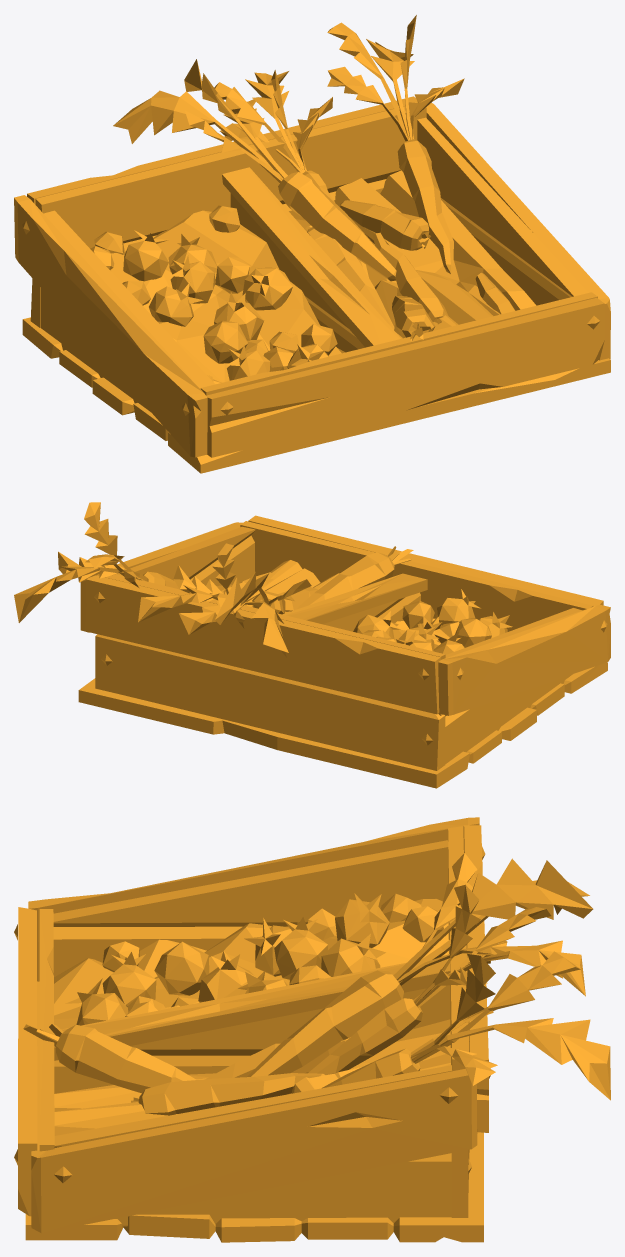
The model's file is SM_Crate_Table_Slanted_Tomato_Carrot_Fantasy.fbx.
3 renders of one model, top to bottom at view 1: azimuth 30°, elevation 25°; view 2: azimuth 150°, elevation 25°; view 3: azimuth 270°, elevation 25°, orthographic. The views are drawn at different scales.
Parts seen in each view (by area): view 1: crate-table-slanted-tomato-carrot-fantasy; view 2: crate-table-slanted-tomato-carrot-fantasy; view 3: crate-table-slanted-tomato-carrot-fantasy.
Boxes of the visible parts, box(x1,y1,x2,y2) form: crate-table-slanted-tomato-carrot-fantasy: box(14, 15, 610, 473); crate-table-slanted-tomato-carrot-fantasy: box(14, 502, 610, 788); crate-table-slanted-tomato-carrot-fantasy: box(14, 817, 610, 1242).
Size of the model in its own units: 1.13 by 0.55 by 1.05.
